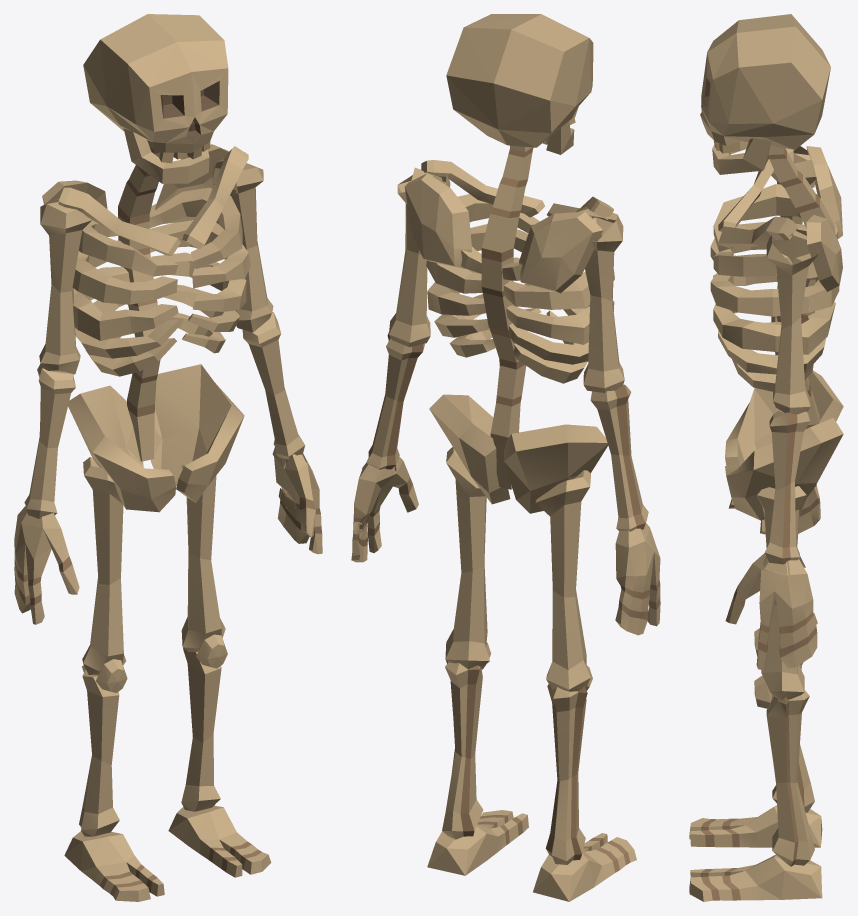
The model's file is HDSkeleton.glb.
3 renders of one model, left to right at view 1: azimuth 30°, elevation 25°; view 2: azimuth 150°, elevation 25°; view 3: azimuth 270°, elevation 25°, orthographic.
Visible parts, largest first — view 1: Character_Skeleton_01, Character_Skeleton_01.002, Character_Skeleton_01.001; view 2: Character_Skeleton_01, Character_Skeleton_01.002, Character_Skeleton_01.001; view 3: Character_Skeleton_01, Character_Skeleton_01.001, Character_Skeleton_01.002.
Boxes of the visible parts, box(x1,y1,x2,y2) form: Character_Skeleton_01: box(42, 14, 271, 901); Character_Skeleton_01.002: box(14, 202, 91, 624); Character_Skeleton_01.001: box(212, 159, 322, 554); Character_Skeleton_01: box(404, 14, 636, 901); Character_Skeleton_01.002: box(578, 209, 660, 635); Character_Skeleton_01.001: box(351, 175, 450, 562); Character_Skeleton_01: box(689, 14, 843, 901); Character_Skeleton_01.001: box(725, 229, 818, 670); Character_Skeleton_01.002: box(728, 146, 820, 534).
Bounding box in the file's own units: 1.56 × 4.3 × 0.7197.
Materials: 1 (1 with a texture image).
